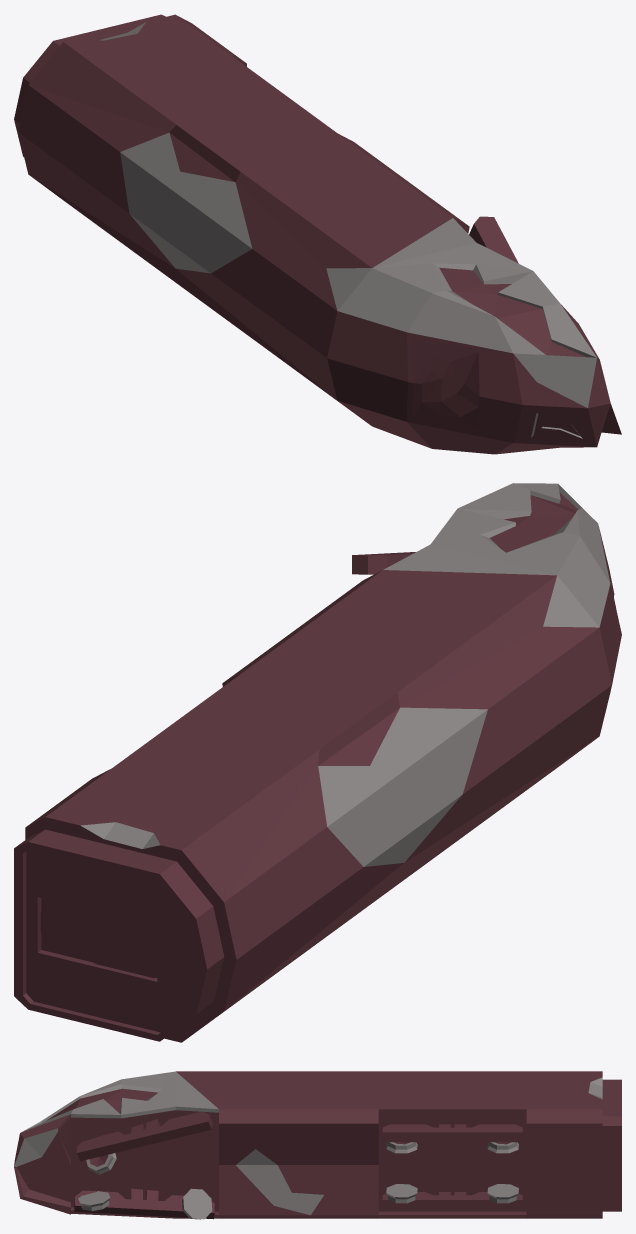
The model's file is train-speed-apocalypse-b.fbx.
3 renders of one model, top to bottom at view 1: azimuth 30°, elevation 25°; view 2: azimuth 150°, elevation 25°; view 3: azimuth 270°, elevation 25°, orthographic. The views are drawn at different scales.
Visible parts, largest first — view 1: train-speed-apocalypse-b; view 2: train-speed-apocalypse-b; view 3: train-speed-apocalypse-b.
Part boxes in pixels (<box>): train-speed-apocalypse-b: <box>14,14,621,454</box>; train-speed-apocalypse-b: <box>14,483,621,1042</box>; train-speed-apocalypse-b: <box>14,1071,621,1219</box>.
Bounding box in the file's own units: 4.03 × 3.14 × 15.61.
